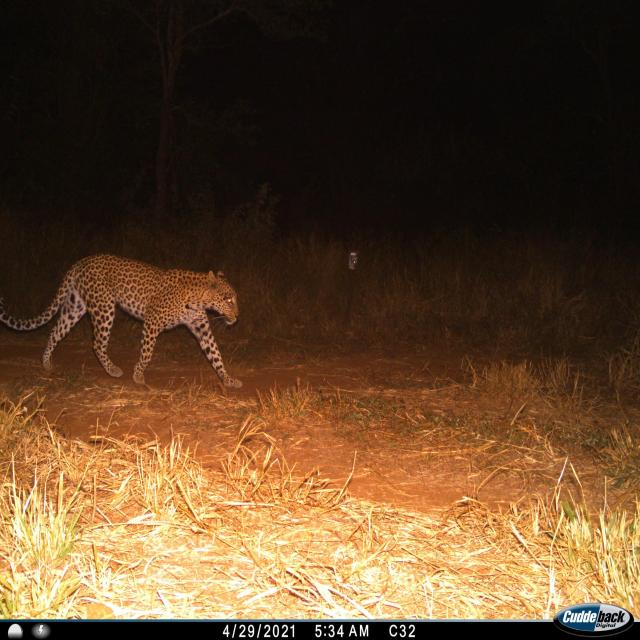Leopard: (6, 252, 247, 394)
